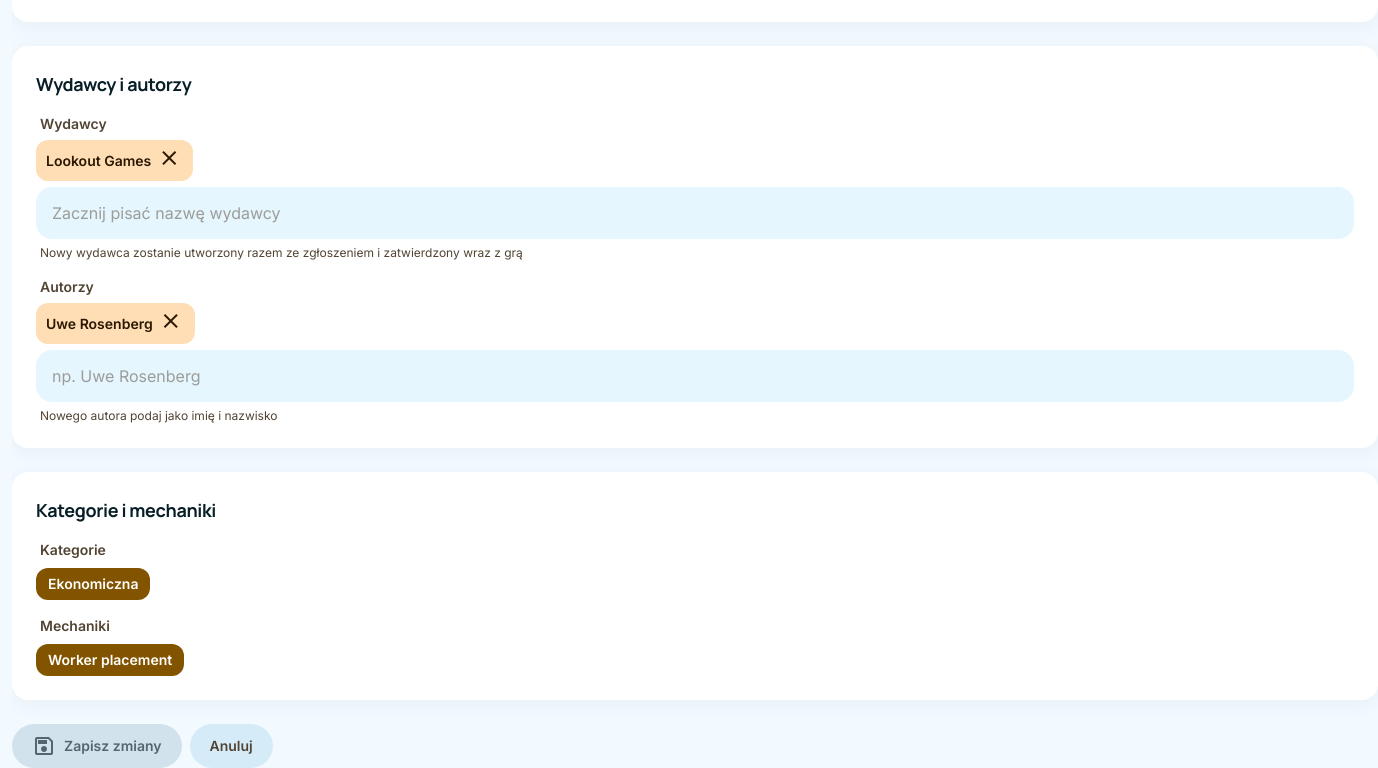
it: edycja gry z biblioteki przez moderatora › GAME_NOT_APPROVED z backendu wraca do strony gry
(page scrolled)
Click the button "Zapisz zmiany".
click(97, 746)  # box [12,724,182,767]
(page scrolled)
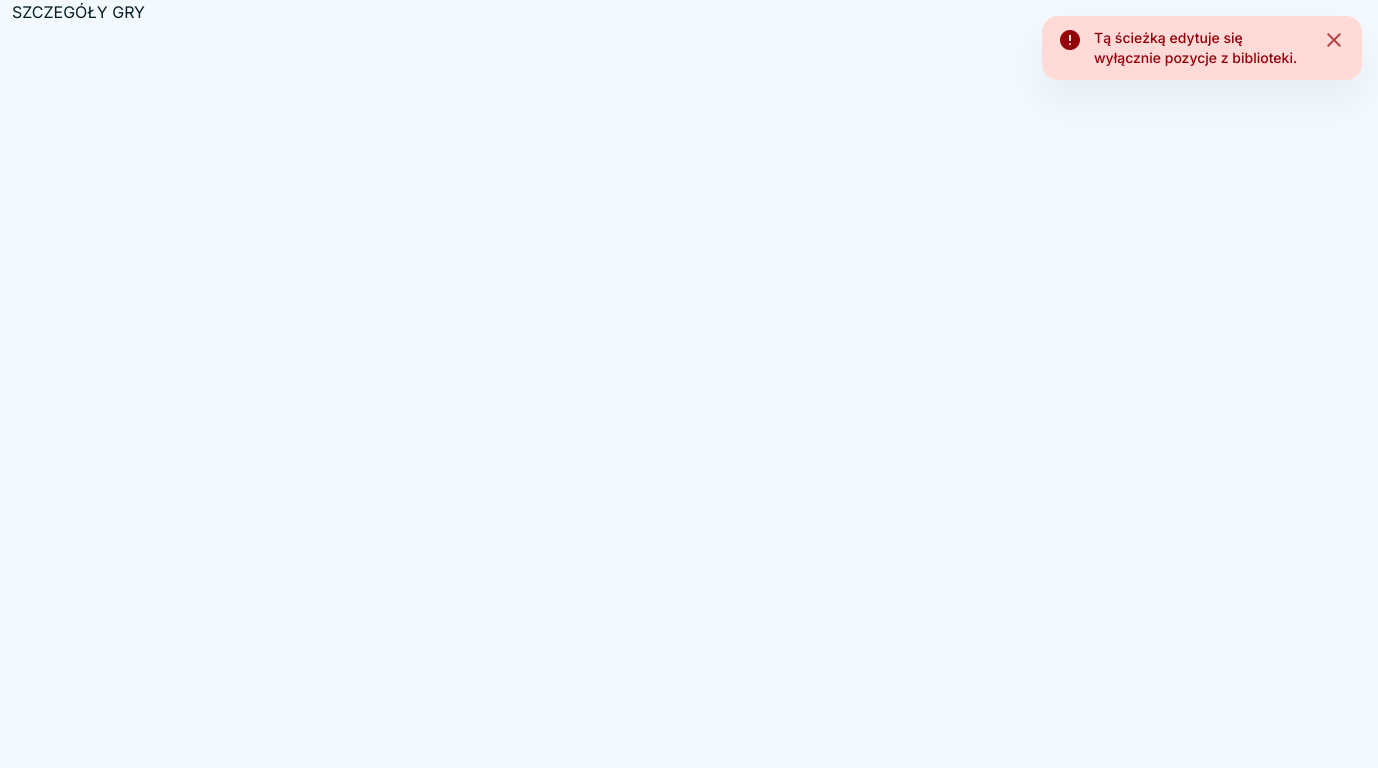
Result: the text "SZCZEGÓŁY GRY" is shown at [12,2,145,22]
